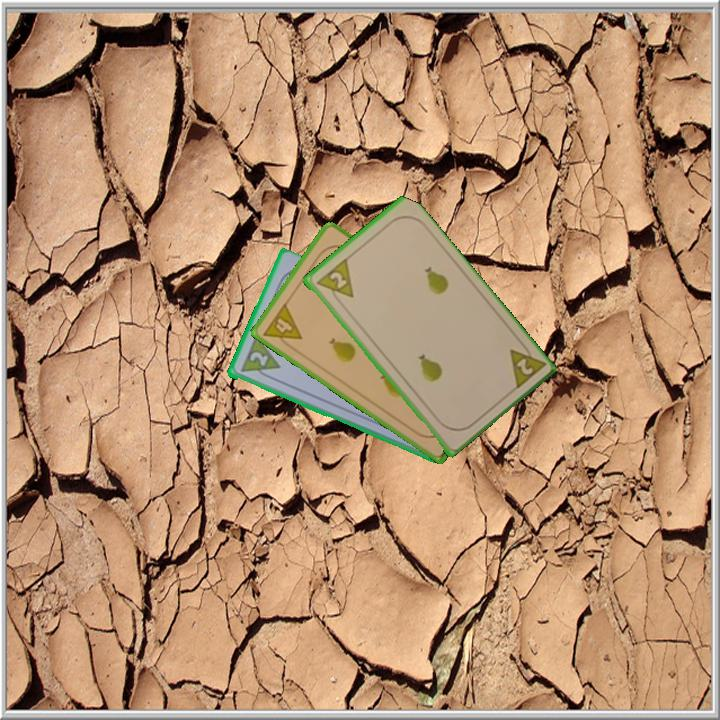2p: (505, 337, 547, 393), (236, 334, 282, 384), (312, 256, 356, 308)
4p: (260, 299, 305, 353)
